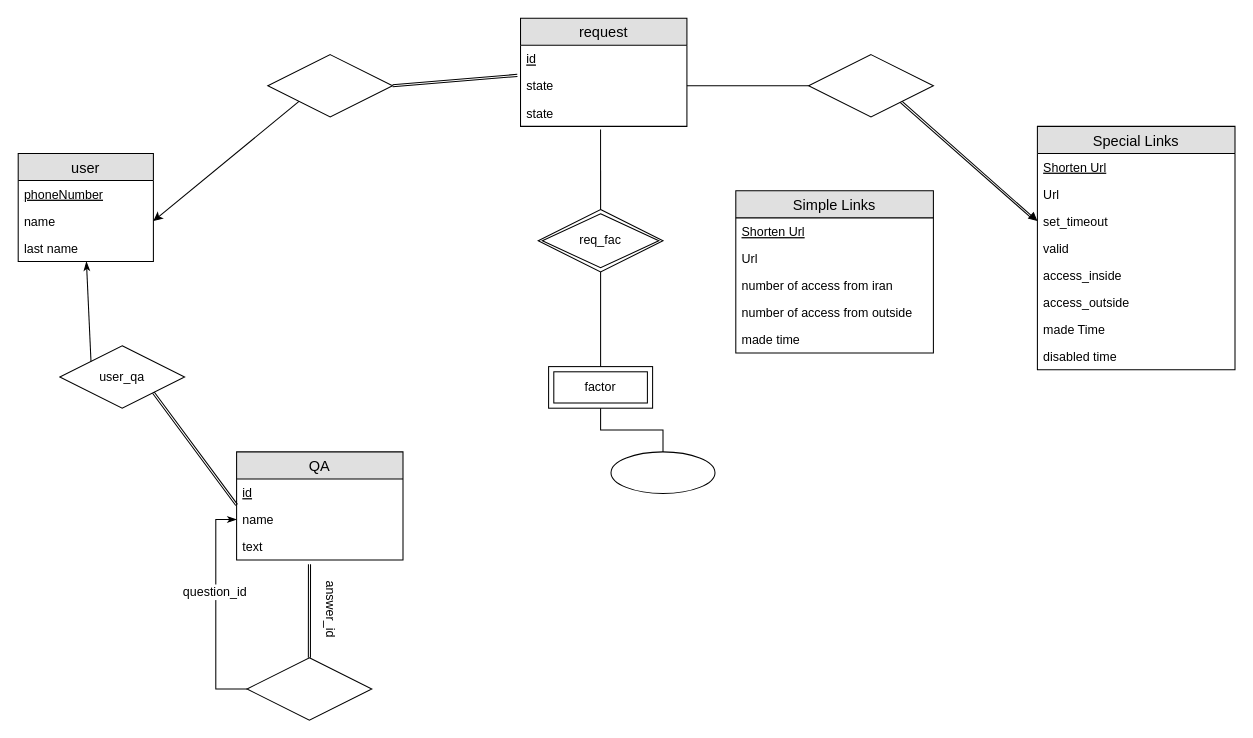
Image size: 1253x738. Some labels were removed from this diagram. The centre of each missing label's shape, as x and y in pixels:
price: [662,472]
reply: [309,688]
req_link: [870,85]
user_req: [330,85]
